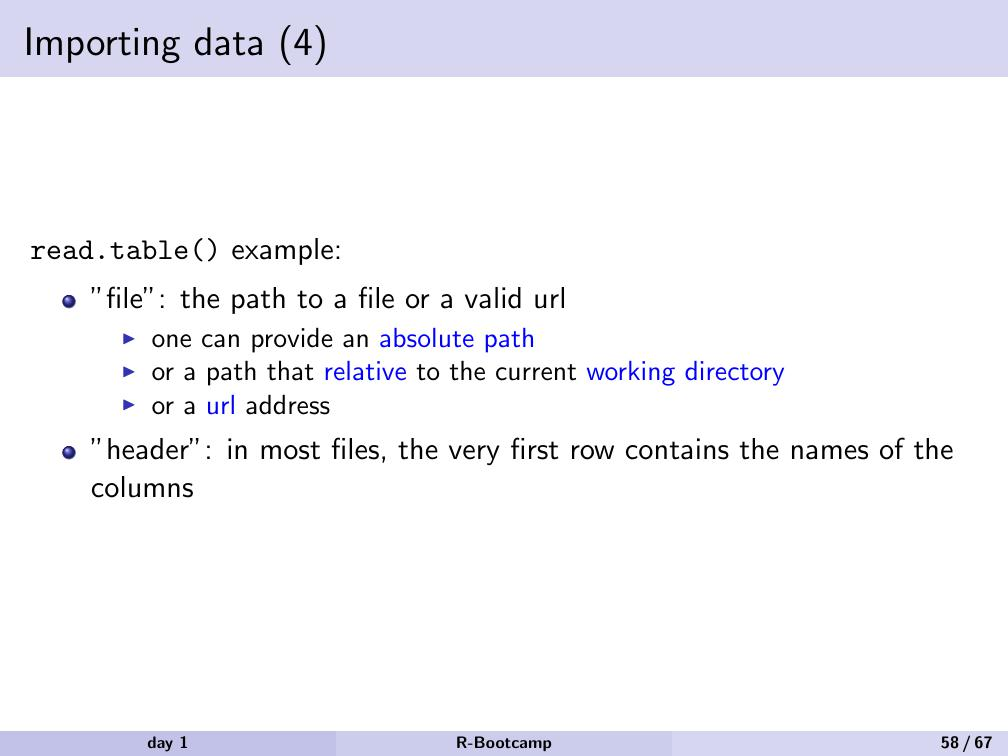Title: (20, 17, 332, 70)
